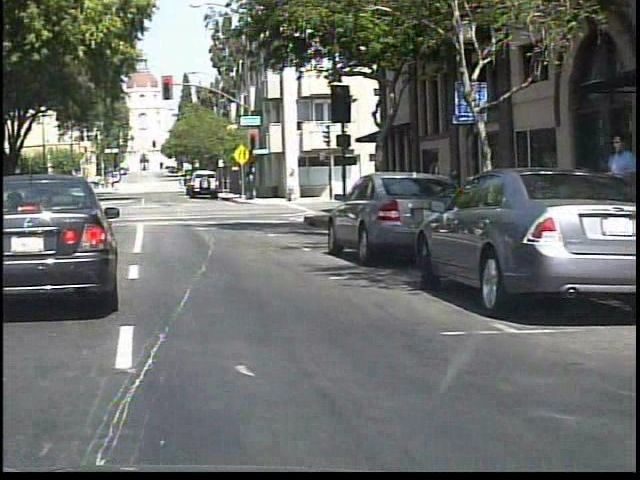person: (594, 132, 639, 276), (14, 173, 35, 210), (2, 175, 19, 211)
